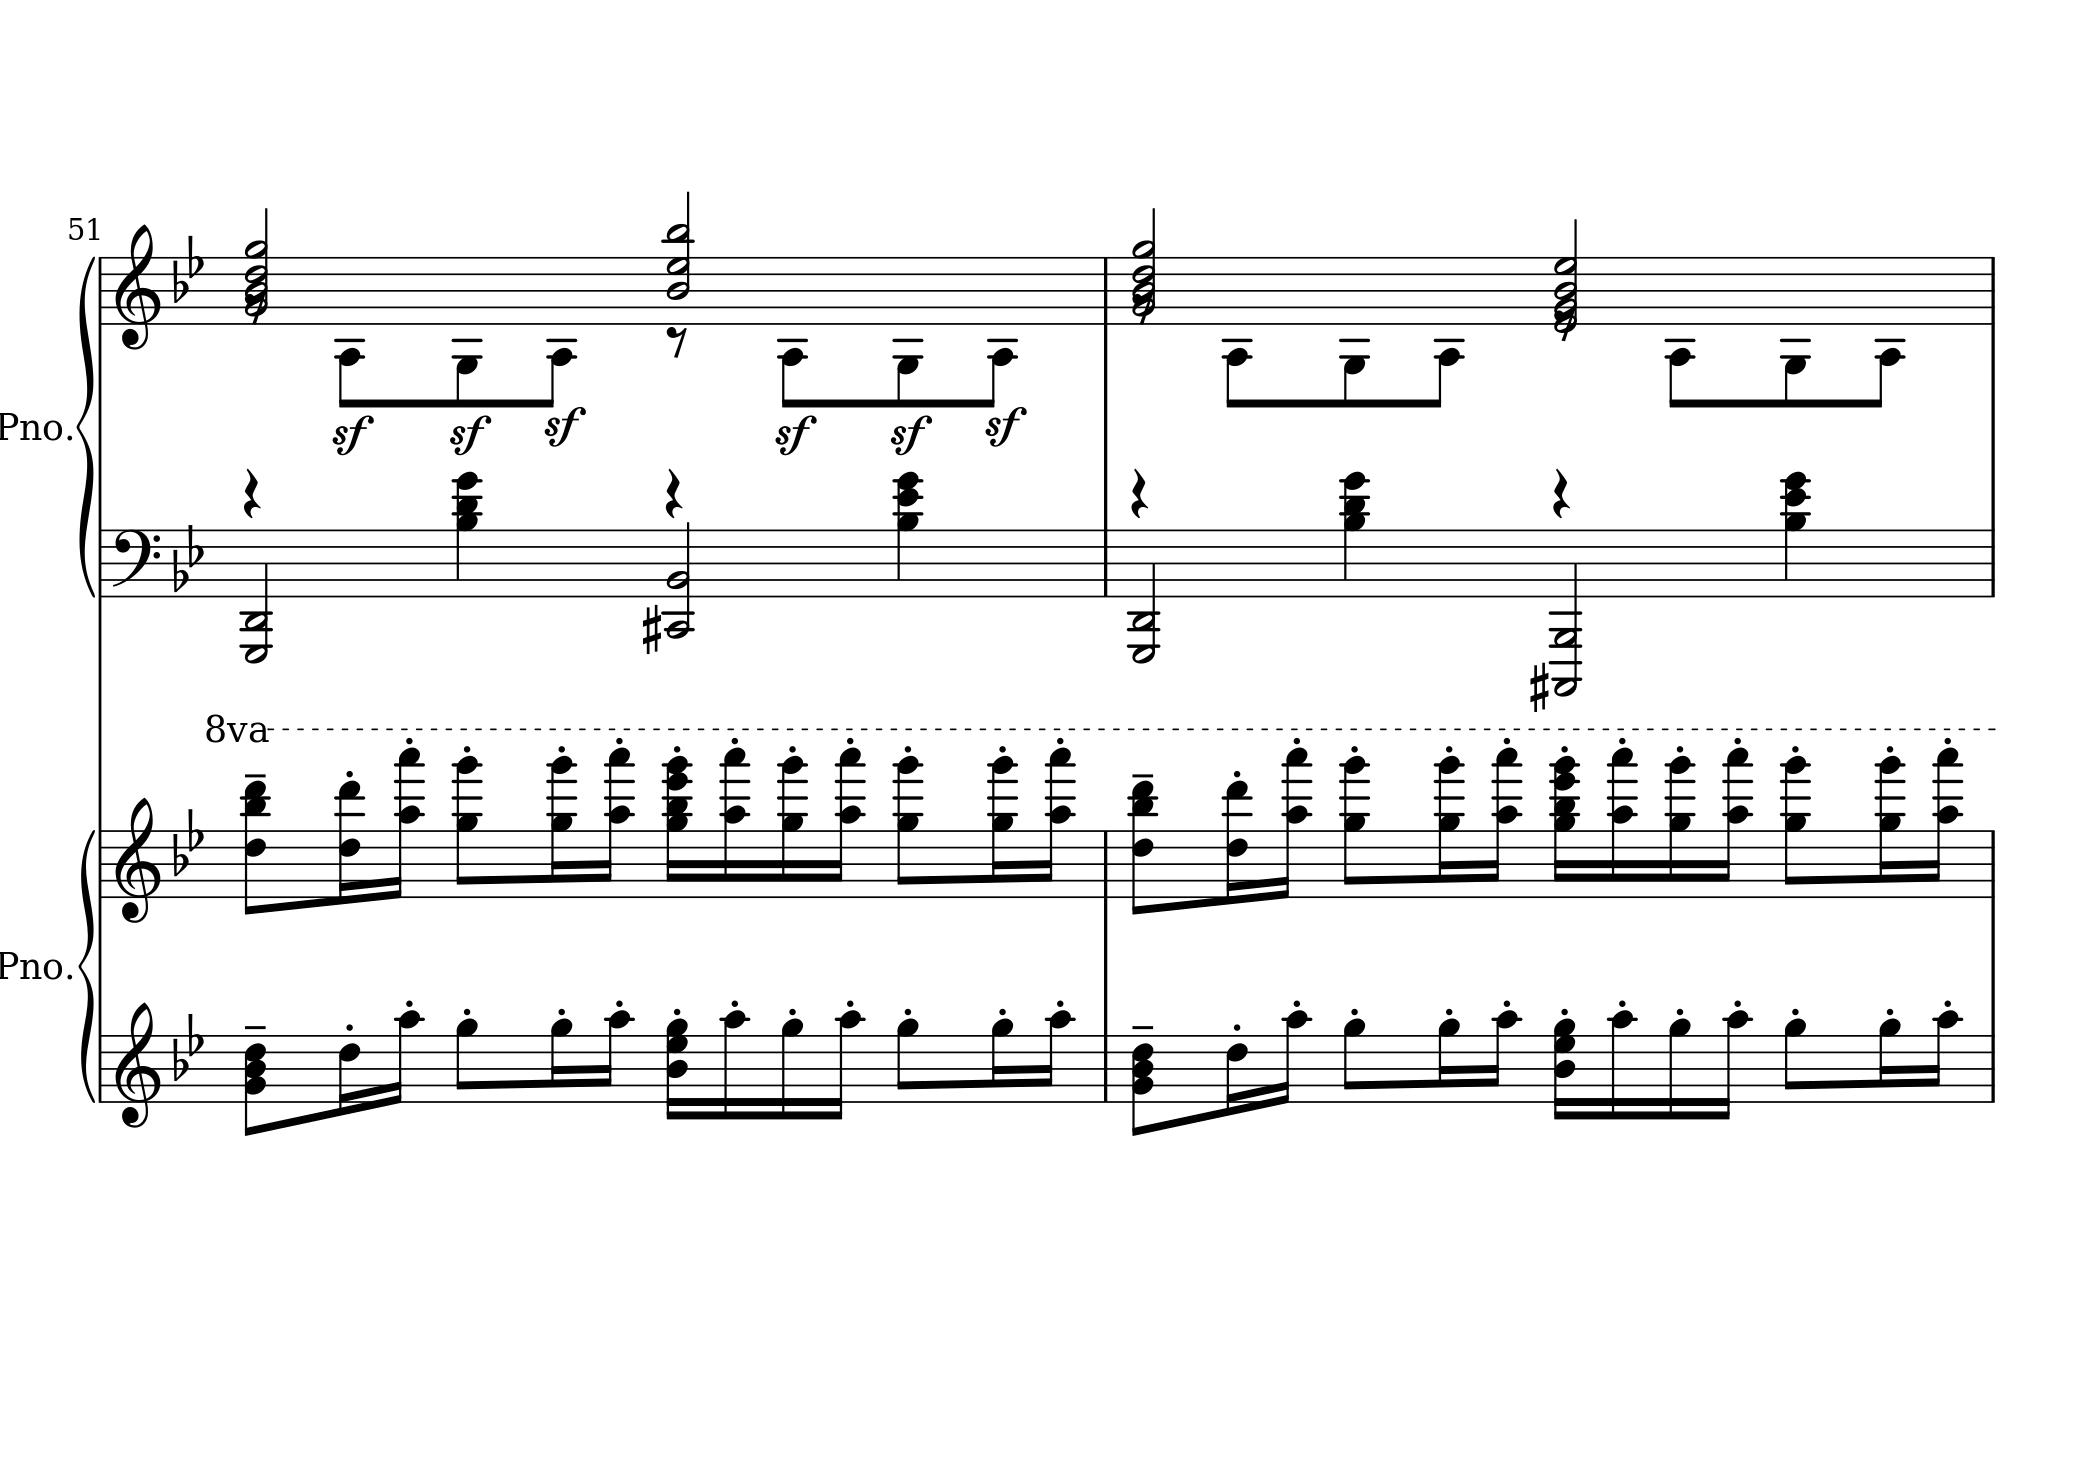1: (87, 215, 101, 244)
16_10: (1714, 1010, 1753, 1120), (827, 1010, 864, 1120), (1275, 1010, 1311, 1108), (1927, 1010, 1963, 1104), (388, 1010, 421, 1108), (719, 1010, 748, 1122), (599, 1010, 631, 1106), (1040, 1010, 1072, 1106), (1487, 1010, 1519, 1106), (1609, 1010, 1636, 1122)
16_10_17: (599, 747, 638, 901), (828, 747, 867, 901), (1038, 747, 1077, 901), (1275, 747, 1314, 901), (1484, 747, 1522, 901), (1604, 745, 1642, 899), (1717, 747, 1756, 901), (388, 747, 425, 901), (1926, 747, 1963, 901), (715, 745, 751, 898)
16_6: (336, 1032, 360, 1117), (1226, 1032, 1250, 1117)
16_6_13: (335, 781, 368, 906), (1224, 781, 1254, 906)
16_9: (1665, 1016, 1692, 1122), (779, 1016, 804, 1122), (989, 1016, 1013, 1104), (1878, 1016, 1902, 1104), (1436, 1018, 1460, 1104), (550, 1016, 572, 1104)
16_9_16: (1875, 755, 1908, 901), (545, 755, 578, 898), (1665, 753, 1697, 899), (779, 757, 809, 902), (987, 753, 1017, 899), (1436, 755, 1464, 899)
16_th: (1548, 752, 1581, 901), (662, 752, 694, 901), (1549, 1015, 1580, 1120), (663, 1015, 691, 1120)
2_-4_2: (663, 523, 697, 640)
2_-7_-3: (240, 529, 276, 665), (1126, 527, 1162, 664)
2_4th: (242, 207, 271, 330), (1552, 216, 1580, 341), (1133, 207, 1157, 329)
2_th: (663, 189, 694, 329)
4_th: (1338, 466, 1371, 598), (891, 468, 924, 599), (1778, 468, 1812, 599), (450, 466, 482, 596)
5: (67, 215, 85, 242)
8_-4: (1429, 253, 1464, 409), (1221, 253, 1254, 409), (1871, 253, 1905, 407), (543, 253, 577, 404), (777, 252, 809, 407), (1665, 253, 1697, 409), (333, 253, 365, 407), (985, 253, 1017, 402)
8_-5: (1778, 253, 1812, 409), (1339, 253, 1370, 409), (452, 253, 482, 407), (892, 252, 923, 406)
8_9: (1782, 1018, 1807, 1104), (453, 1018, 477, 1104), (896, 1018, 920, 1104), (1343, 1018, 1367, 1104)
8_9_16: (452, 755, 482, 898), (894, 757, 924, 899), (1341, 757, 1371, 899), (1783, 757, 1814, 899)
8_th: (1126, 777, 1158, 918), (240, 777, 271, 918), (244, 1032, 271, 1138), (1131, 1032, 1158, 1136)
B_F: (171, 232, 205, 303), (171, 806, 205, 877), (171, 1010, 205, 1080), (171, 523, 203, 591)
Brace: (74, 252, 96, 596), (75, 825, 98, 1101)
Fclef: (111, 527, 160, 599)
Gclef: (112, 1000, 160, 1128), (114, 223, 160, 349), (114, 797, 160, 923)
Pno: (2, 947, 64, 984), (2, 409, 62, 446)
Rests4: (1549, 465, 1572, 521), (240, 466, 263, 519), (662, 466, 684, 519), (1130, 465, 1149, 519)
Rests8: (663, 324, 691, 359)
Sharp: (639, 603, 662, 656), (1528, 659, 1549, 713)
Single_barline: (1983, 256, 2001, 324), (1983, 531, 2001, 595), (1097, 256, 1113, 324), (1097, 527, 1113, 595), (1985, 830, 2001, 898), (1097, 830, 1113, 898), (1985, 1035, 2001, 1101), (1097, 1035, 1113, 1100), (95, 830, 109, 898), (95, 256, 107, 324), (95, 529, 107, 596), (95, 1035, 107, 1100)
sf: (982, 404, 1029, 449), (542, 404, 586, 449), (772, 412, 819, 455), (330, 412, 373, 455), (888, 414, 932, 455), (447, 414, 490, 455)
